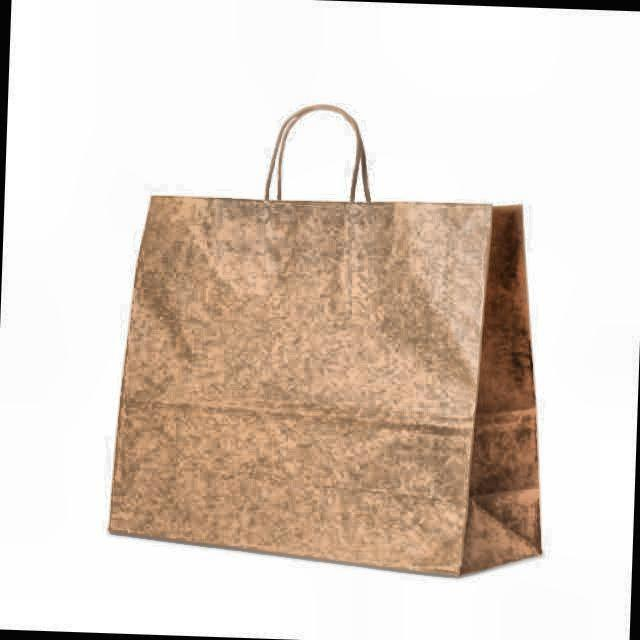cardboard: (108, 104, 542, 580)
